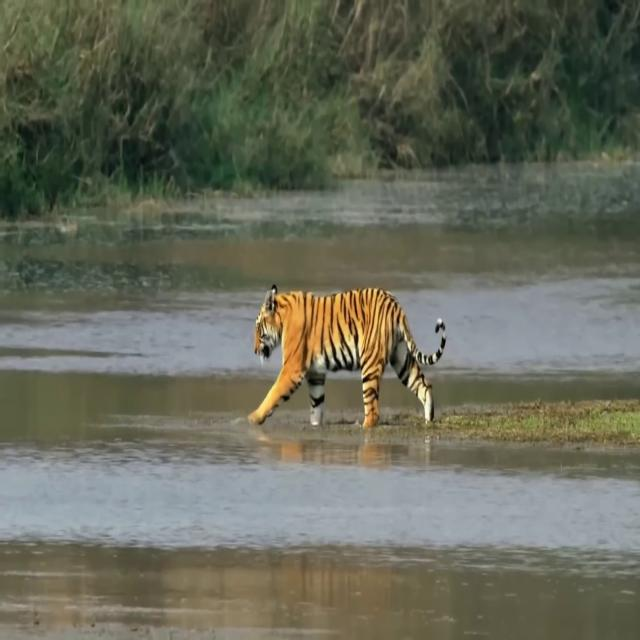tiger: (247, 282, 447, 428)
